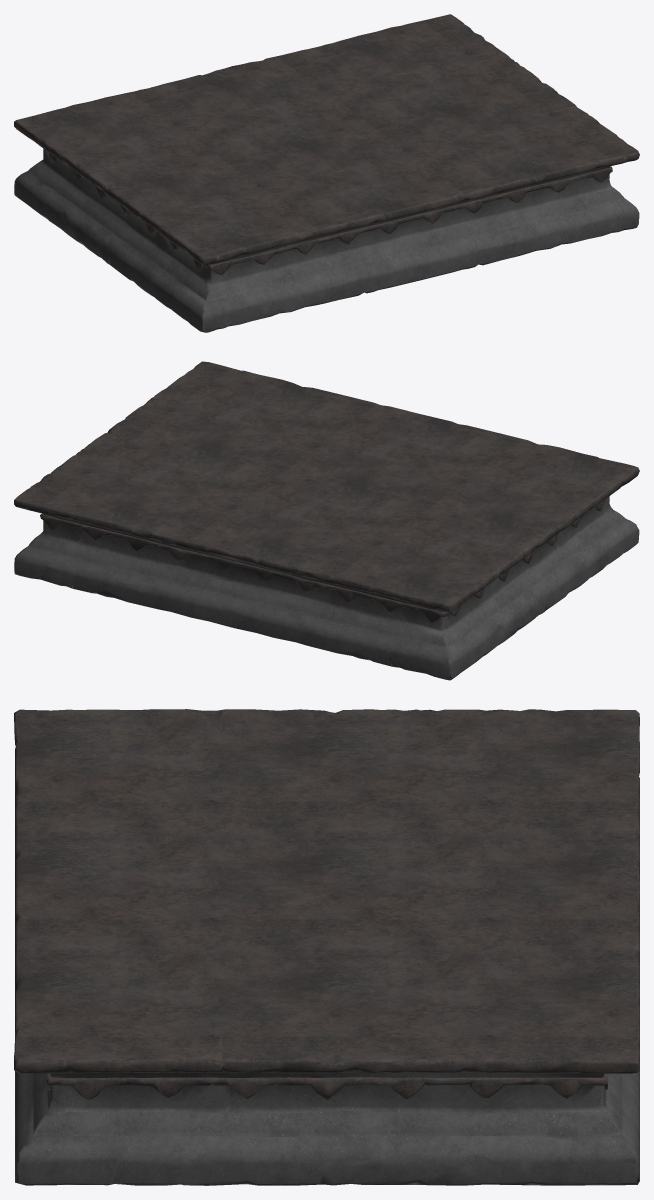
The model's file is SM_PorticoModule.fbx.
3 renders of one model, top to bottom at view 1: azimuth 30°, elevation 25°; view 2: azimuth 150°, elevation 25°; view 3: azimuth 270°, elevation 25°, orthographic. The views are drawn at different scales.
Parts seen in each view (by area): view 1: SM_PorticoModule_LOD0; view 2: SM_PorticoModule_LOD0; view 3: SM_PorticoModule_LOD0.
Boxes of the visible parts, x1=… form: SM_PorticoModule_LOD0: x1=14, y1=14, x2=639, y2=332; SM_PorticoModule_LOD0: x1=14, y1=361, x2=639, y2=680; SM_PorticoModule_LOD0: x1=14, y1=709, x2=639, y2=1185.
Size of the model in its own units: 600 by 451 by 101.
Materials: 3 (3 with a texture image).
